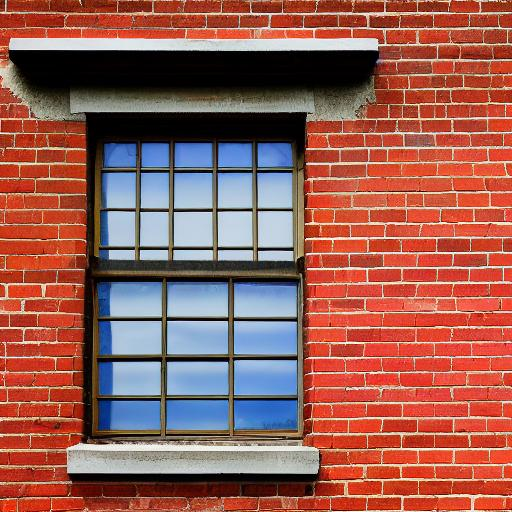Window: (0, 36, 382, 481)
